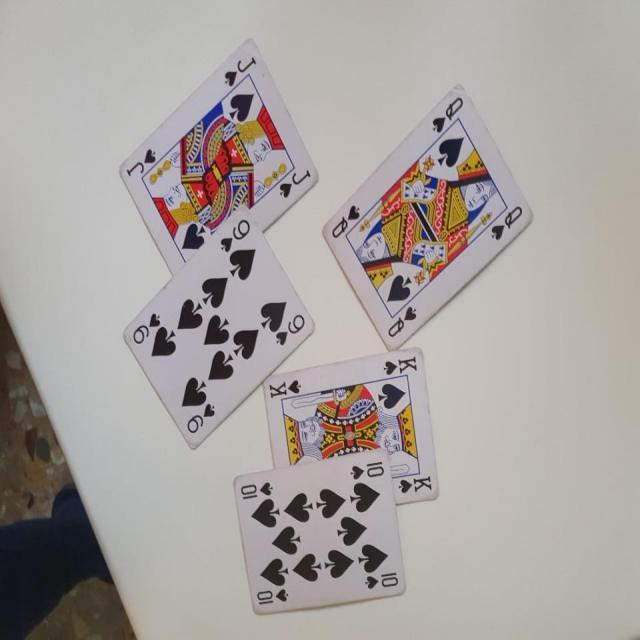10 of spades: (228, 456, 407, 625)
9 of spades: (120, 200, 320, 457)
jack of spades: (103, 27, 323, 276)
king of spades: (254, 348, 441, 530)
queen of spades: (321, 80, 534, 355)
